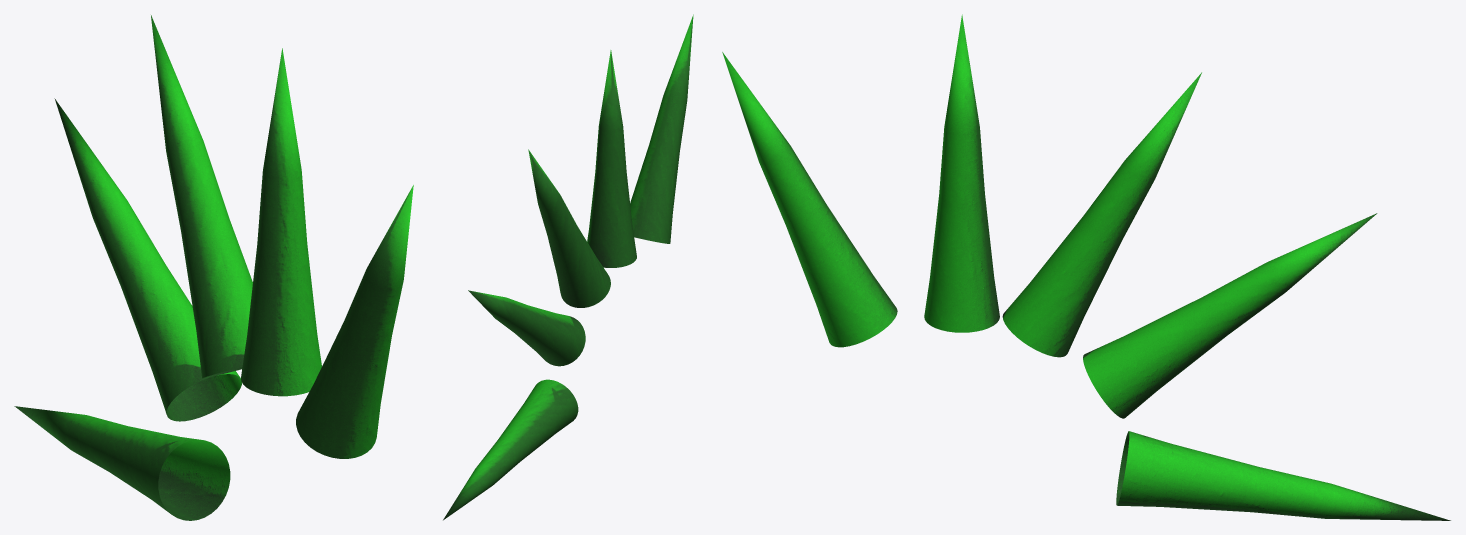
The model's file is SM_LibertySpikes_00.fbx.
3 renders of one model, left to right at view 1: azimuth 30°, elevation 25°; view 2: azimuth 150°, elevation 25°; view 3: azimuth 270°, elevation 25°, orthographic. The views are drawn at different scales.
Visible parts, largest first — view 1: SM_LibertySpikes_00; view 2: SM_LibertySpikes_00; view 3: SM_LibertySpikes_00.
Boxes of the visible parts, <box> form: SM_LibertySpikes_00: <box>14,15,413,520</box>; SM_LibertySpikes_00: <box>443,14,693,520</box>; SM_LibertySpikes_00: <box>722,14,1450,520</box>.
Bounding box in the file's own units: 6.49 × 47.9 × 62.49.
